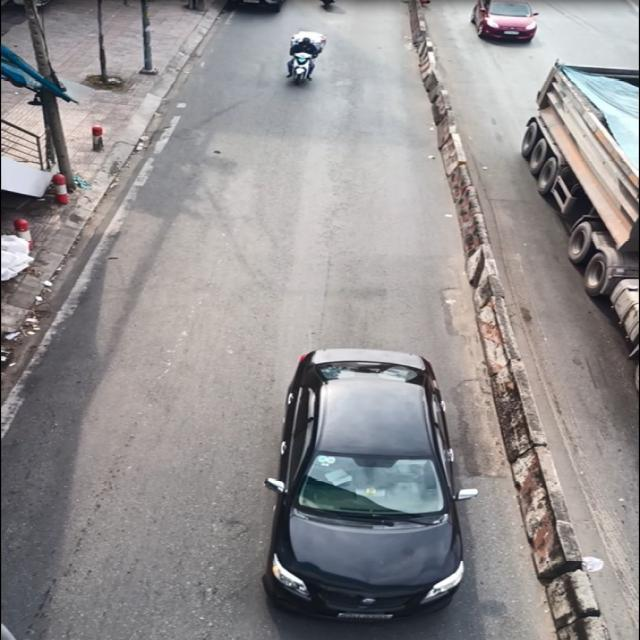car: (262, 346, 478, 622), (470, 0, 539, 42)
motorcycle: (285, 30, 326, 84)
truck: (520, 57, 639, 364)
